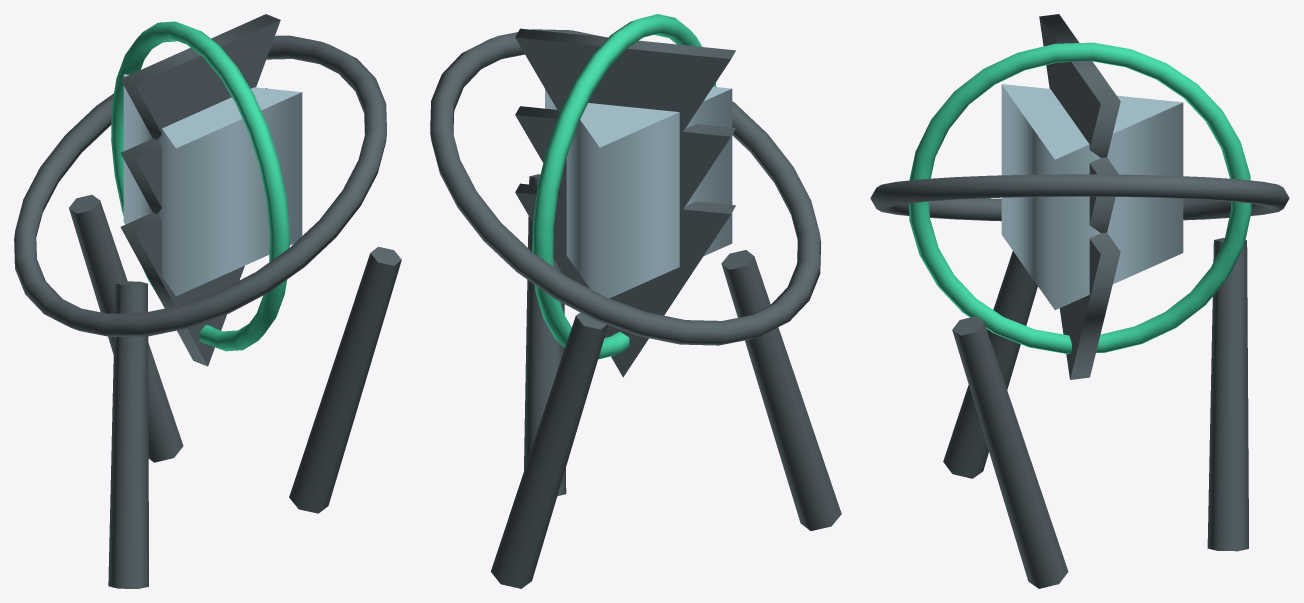
File: frost-relay.glb
The picture shows the model from 3 angles, left to right: view 1: azimuth 30°, elevation 25°; view 2: azimuth 150°, elevation 25°; view 3: azimuth 270°, elevation 25°; orthographic projection. The views are drawn at different scales.
Visible parts, largest first — view 1: body, crystal; view 2: body, crystal; view 3: body, crystal.
Part boxes in pixels (<box>): body: <box>14,14,401,588</box>; crystal: <box>123,74,302,296</box>; body: <box>430,14,841,588</box>; crystal: <box>545,86,732,298</box>; body: <box>870,14,1289,588</box>; crystal: <box>1001,84,1183,309</box>.
Size of the model in its own units: 1.76 by 2.6 by 2.
